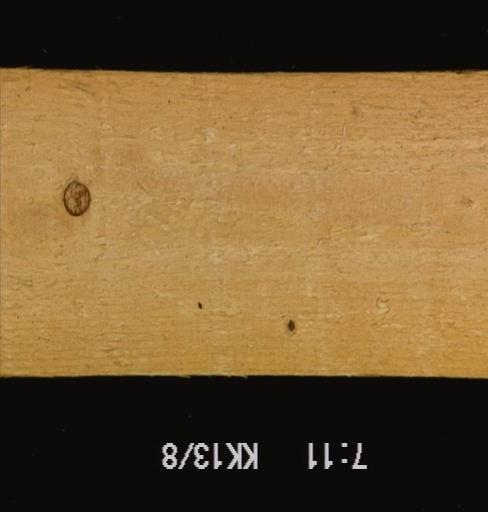dry_knot: (61, 178, 93, 217)
small_knot: (285, 315, 298, 335)
